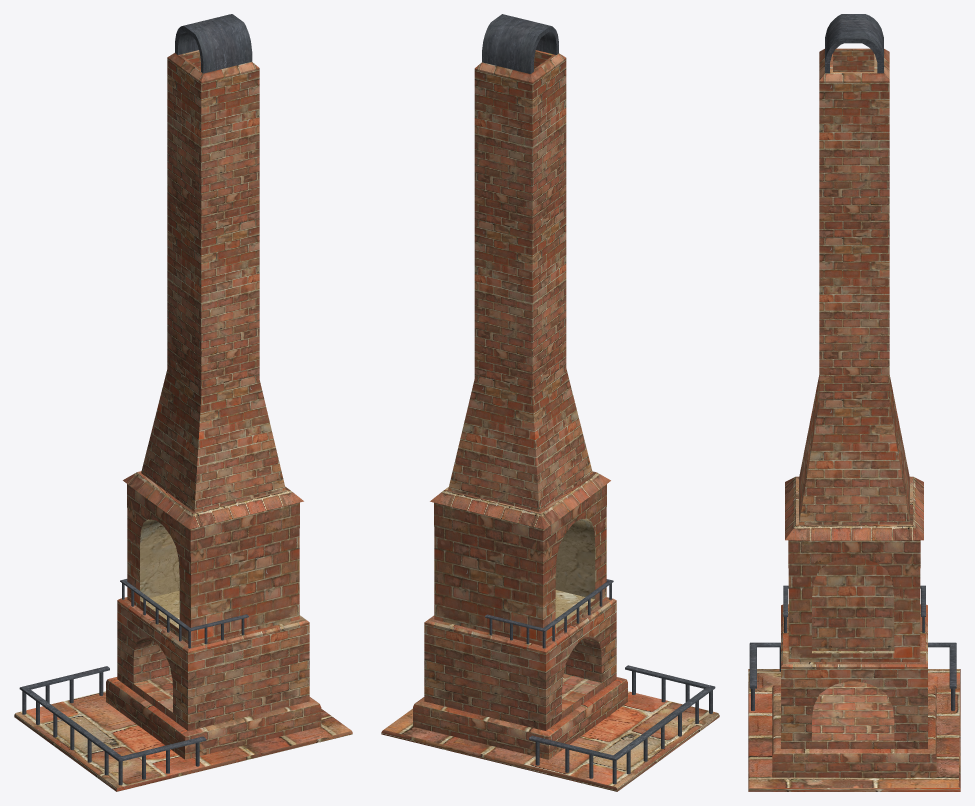
Rendered from chimney.fbx.
The picture shows the model from 3 angles, left to right: view 1: azimuth 30°, elevation 25°; view 2: azimuth 150°, elevation 25°; view 3: azimuth 270°, elevation 25°; orthographic projection. The views are drawn at different scales.
Parts seen in each view (by area): view 1: Mesh; view 2: Mesh; view 3: Mesh.
Part boxes in pixels (<box>): Mesh: <box>14,14,352,791</box>; Mesh: <box>381,14,719,791</box>; Mesh: <box>748,14,960,791</box>.
Bounding box in the file's own units: 391 × 1100 × 294.
